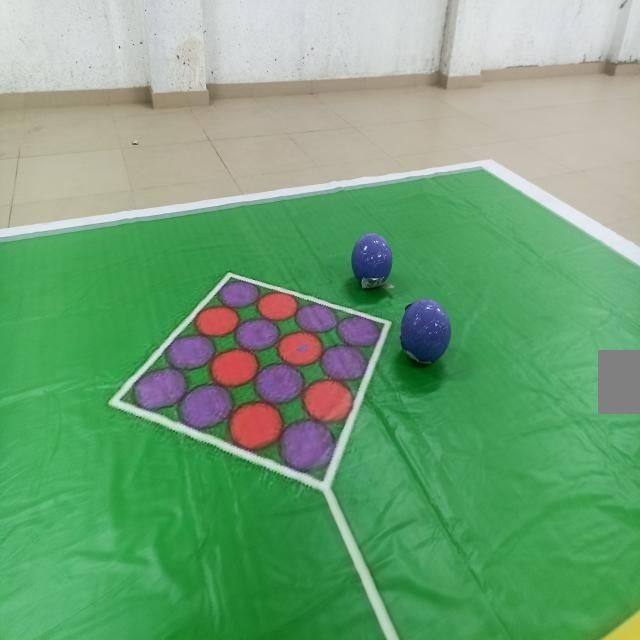purple_ball: (398, 297, 452, 369), (348, 229, 397, 293)
